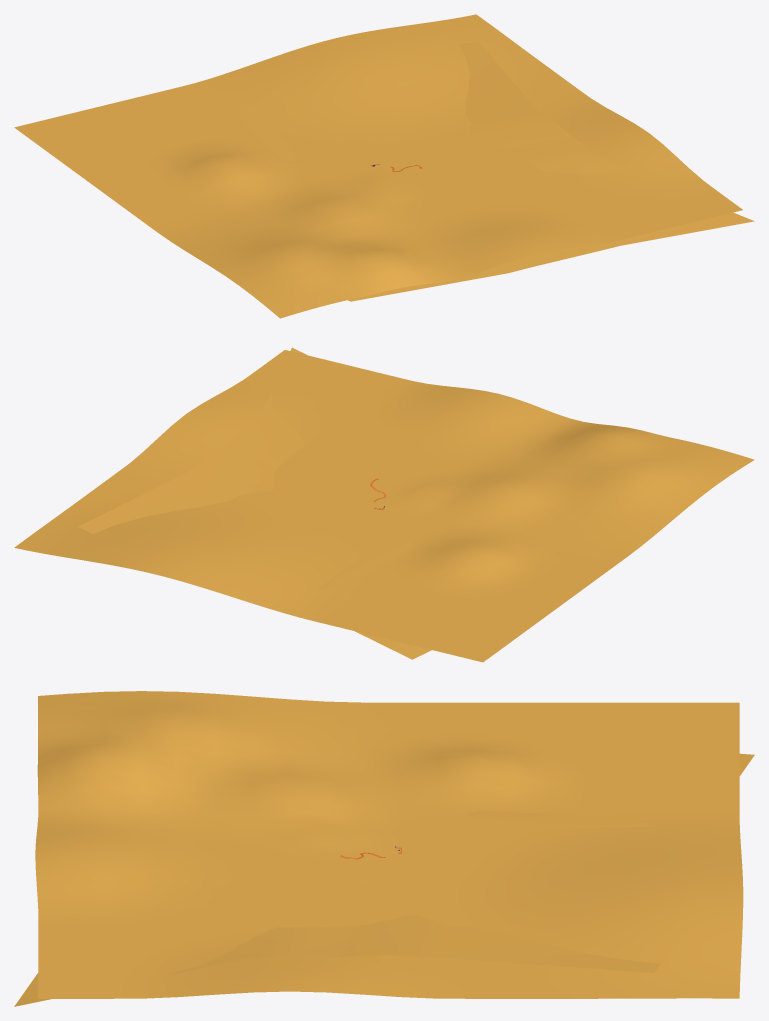
The model's file is awtsmoos.glb.
3 renders of one model, top to bottom at view 1: azimuth 30°, elevation 25°; view 2: azimuth 150°, elevation 25°; view 3: azimuth 270°, elevation 25°, orthographic. The views are drawn at different scales.
Parts seen in each view (by area): view 1: Plane, Plane.001; view 2: Plane, Plane.001; view 3: Plane, Plane.001.
Part boxes in pixels (<box>): Plane: <box>14,14,742,318</box>; Plane.001: <box>238,41,754,301</box>; Plane: <box>14,350,754,662</box>; Plane.001: <box>78,347,431,659</box>; Plane: <box>35,691,743,998</box>; Plane.001: <box>14,753,754,1006</box>.
Bounding box in the file's own units: 905 × 75.14 × 949.
